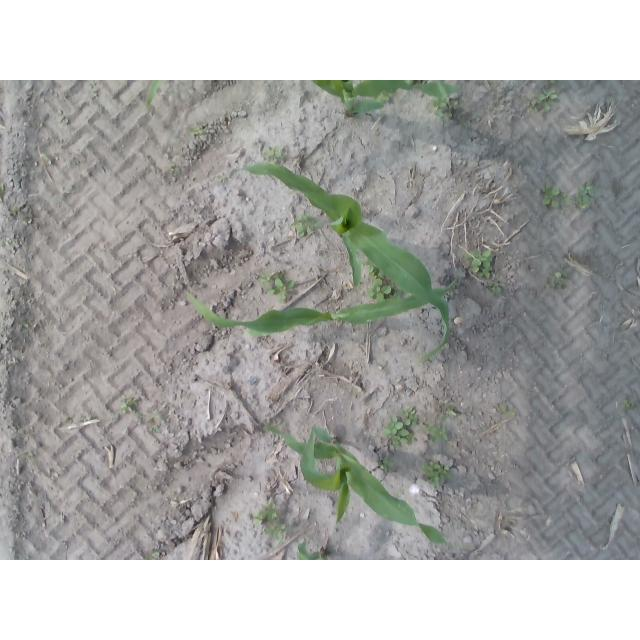Maize: (215, 163, 450, 363), (263, 419, 448, 546), (183, 279, 457, 333), (147, 80, 458, 116), (299, 544, 330, 561)
Weeds: (382, 415, 409, 445), (469, 250, 493, 279), (119, 396, 143, 423), (267, 278, 293, 300), (541, 183, 562, 209), (367, 278, 389, 300), (293, 215, 317, 234), (578, 182, 595, 206), (423, 421, 445, 439), (423, 463, 446, 480), (266, 521, 286, 540), (540, 89, 556, 111), (257, 504, 279, 520), (406, 407, 419, 426), (148, 418, 161, 435), (432, 101, 446, 116), (526, 99, 538, 114), (378, 457, 391, 470), (502, 404, 515, 417), (268, 148, 283, 159), (551, 273, 565, 284), (493, 278, 503, 292), (622, 399, 634, 410), (154, 410, 166, 420), (261, 272, 272, 282), (192, 128, 202, 137)
